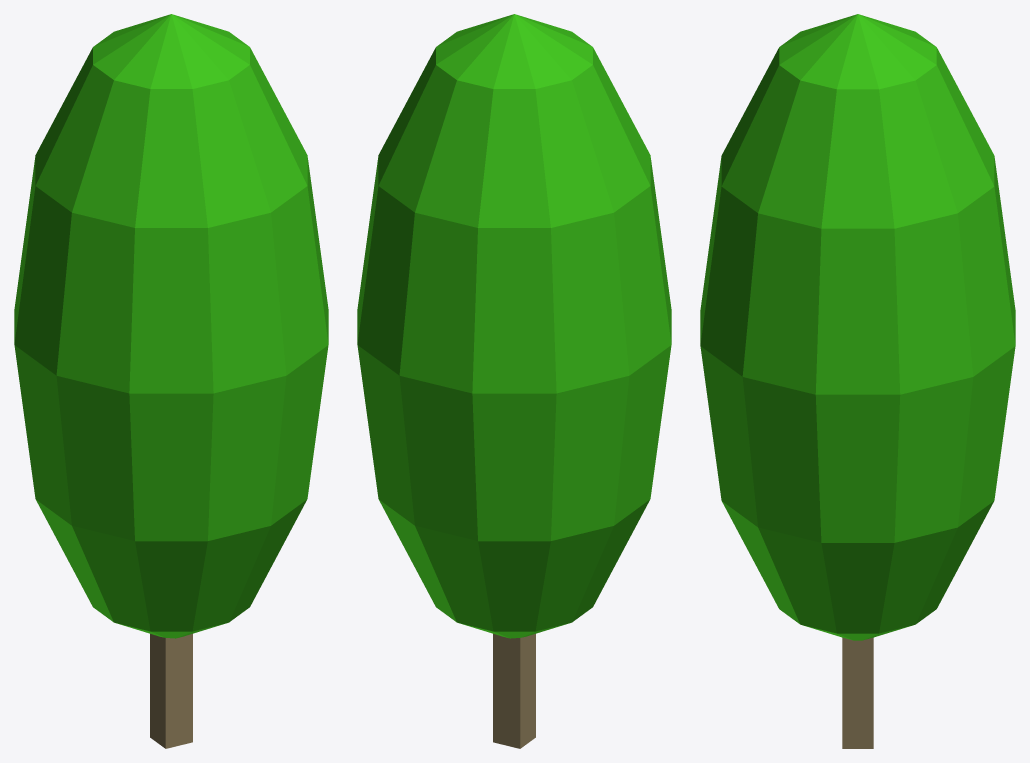
The model's file is tree.obj.
3 views of the same model, side by side, from view 1: azimuth 30°, elevation 25°; view 2: azimuth 150°, elevation 25°; view 3: azimuth 270°, elevation 25° (orthographic).
Visible parts, largest first — view 1: sphere, cuboid; view 2: sphere, cuboid; view 3: sphere, cuboid.
Boxes of the visible parts, x1,y1,x2,y2 form: sphere: [14, 14, 328, 638]; cuboid: [150, 634, 192, 748]; sphere: [357, 14, 671, 638]; cuboid: [493, 634, 535, 748]; sphere: [700, 14, 1015, 640]; cuboid: [842, 637, 873, 748].
Size of the model in its own units: 1.25 by 3.19 by 1.25.
Materials: 1 (1 with a texture image).
